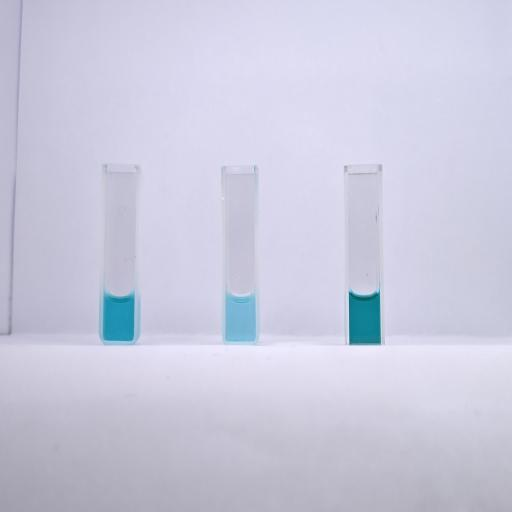cuvette: (97, 162, 143, 347), (342, 161, 387, 347), (219, 164, 261, 346)
liquid: (350, 290, 380, 342), (104, 292, 134, 341), (226, 292, 255, 341)
